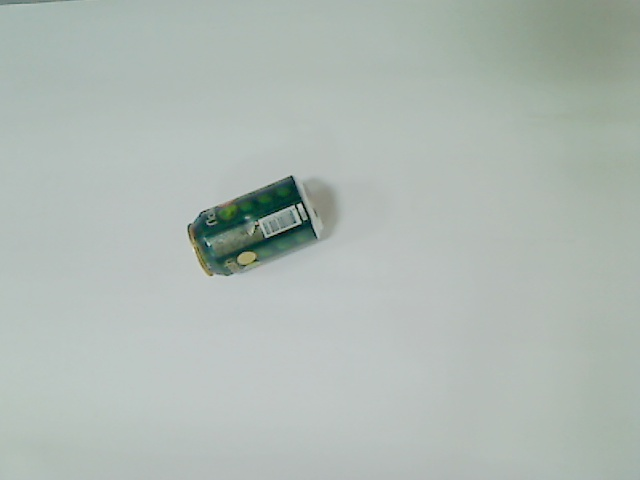can: (185, 173, 325, 277)
